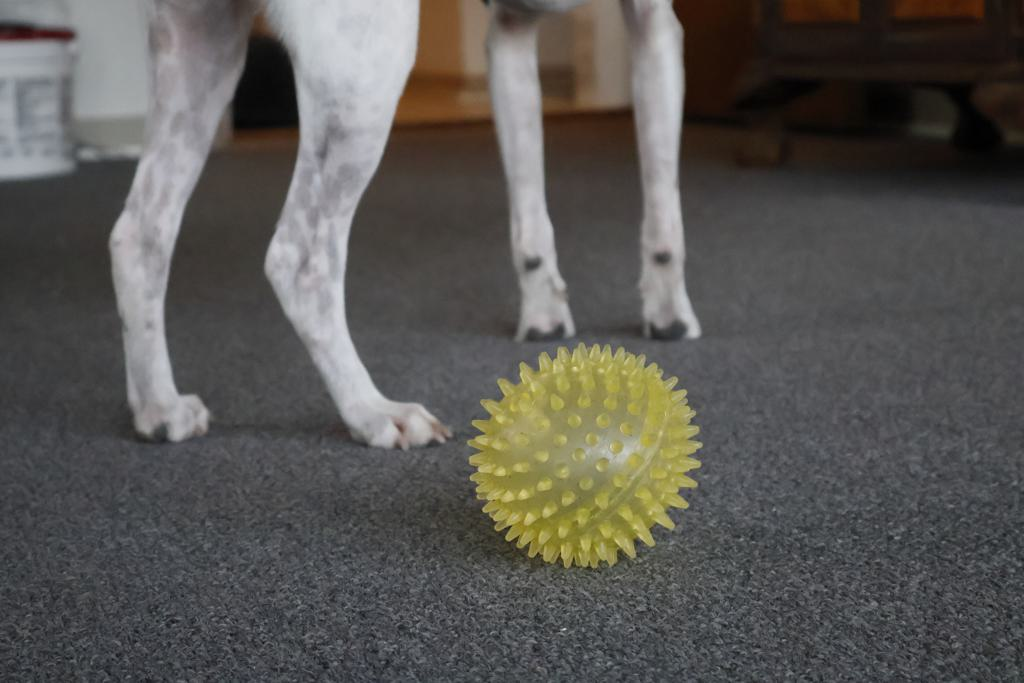Dog: (96, 0, 723, 467)
